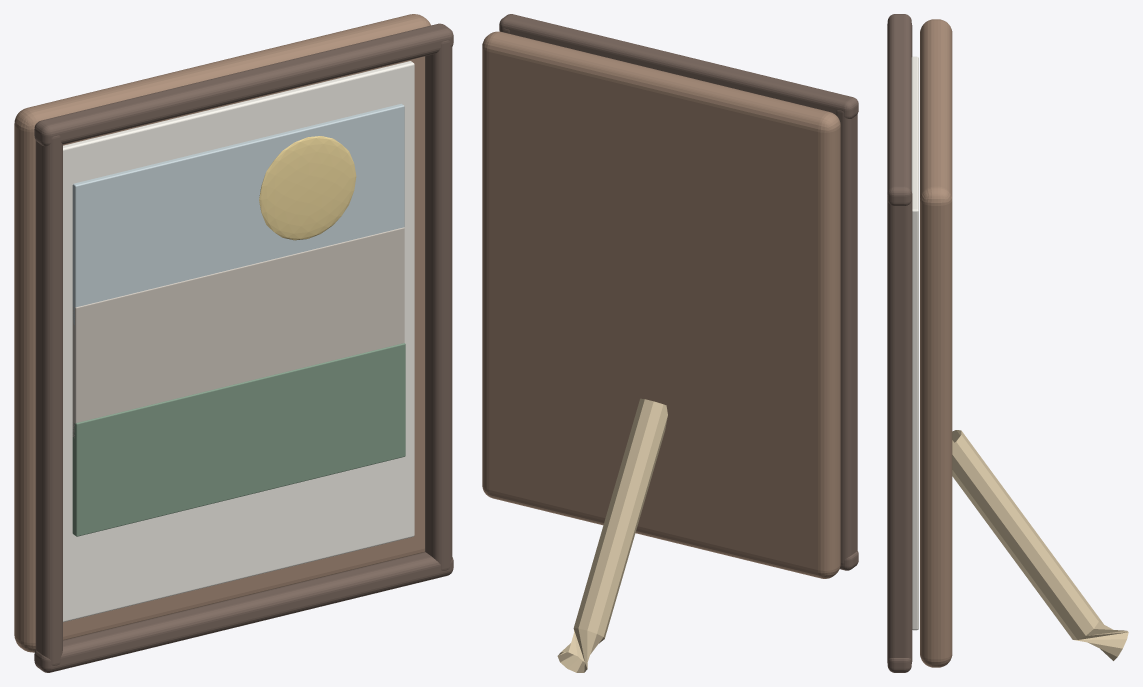
File: picture-frame.glb
3 renders of one model, left to right at view 1: azimuth 30°, elevation 25°; view 2: azimuth 150°, elevation 25°; view 3: azimuth 270°, elevation 25°, orthographic. The views are drawn at different scales.
Visible parts, largest first — view 1: wood_edge_6, paper_1, sand_3, green_dark_4, pale_blue_2, picture_frame_0, yellow_5; view 2: picture_frame_0, wood_edge_6, brass_7; view 3: picture_frame_0, wood_edge_6, brass_7, paper_1.
Part boxes in pixels (box(x1,y1,x2,y2)): wood_edge_6: box(34, 23, 453, 672); paper_1: box(63, 61, 414, 622); sand_3: box(72, 227, 404, 438); green_dark_4: box(72, 343, 405, 536); pale_blue_2: box(72, 103, 404, 324); picture_frame_0: box(14, 14, 430, 652); yellow_5: box(259, 136, 356, 240); picture_frame_0: box(482, 31, 840, 578); wood_edge_6: box(499, 14, 858, 570); brass_7: box(557, 398, 667, 672); picture_frame_0: box(920, 19, 952, 667); wood_edge_6: box(887, 14, 912, 672); brass_7: box(952, 430, 1128, 660); paper_1: box(911, 56, 918, 630).
Bounding box in the file's own units: 1.1 × 1.61 × 0.6294.
